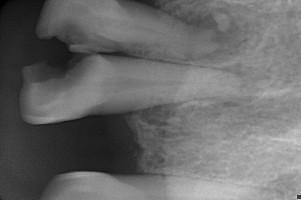Furcation Involvement: (184, 9, 241, 61)
